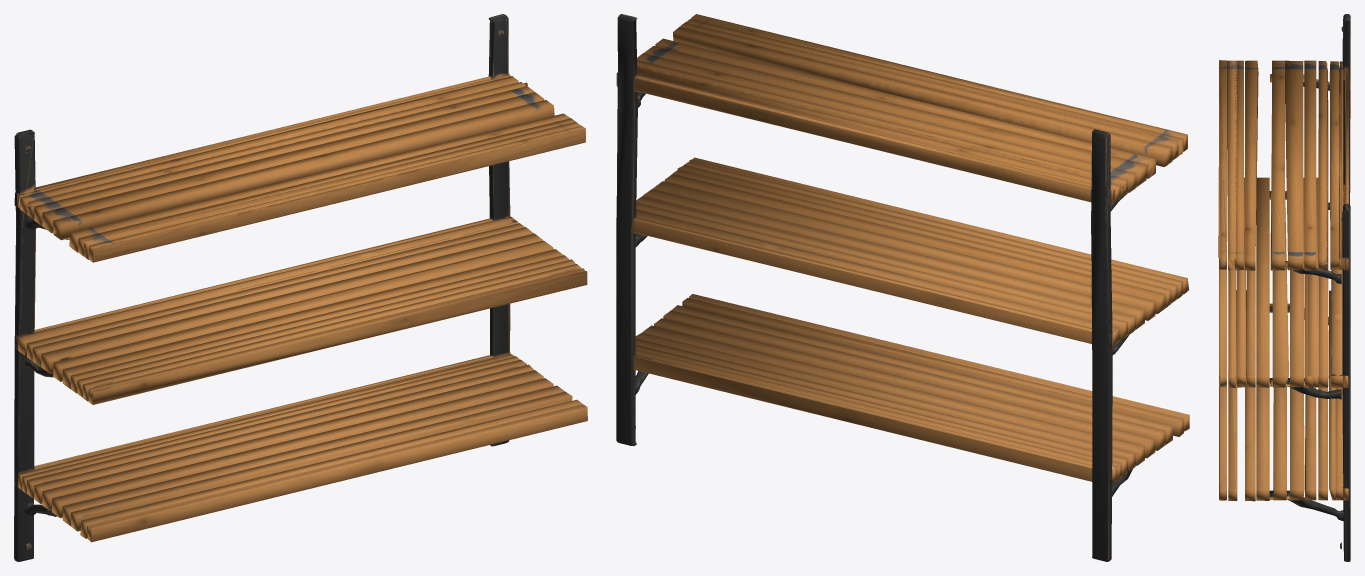
File: ck_wall_shelf-original.glb
The picture shows the model from 3 angles, left to right: view 1: azimuth 30°, elevation 25°; view 2: azimuth 150°, elevation 25°; view 3: azimuth 270°, elevation 25°; orthographic projection. The views are drawn at different scales.
Size of the model in its own units: 0.9731 by 0.7949 by 0.27.
1 material, 1 textured.
